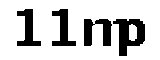1: (44, 6, 78, 52), (9, 6, 43, 50)
m: (79, 15, 124, 47)
p: (118, 17, 149, 60)
